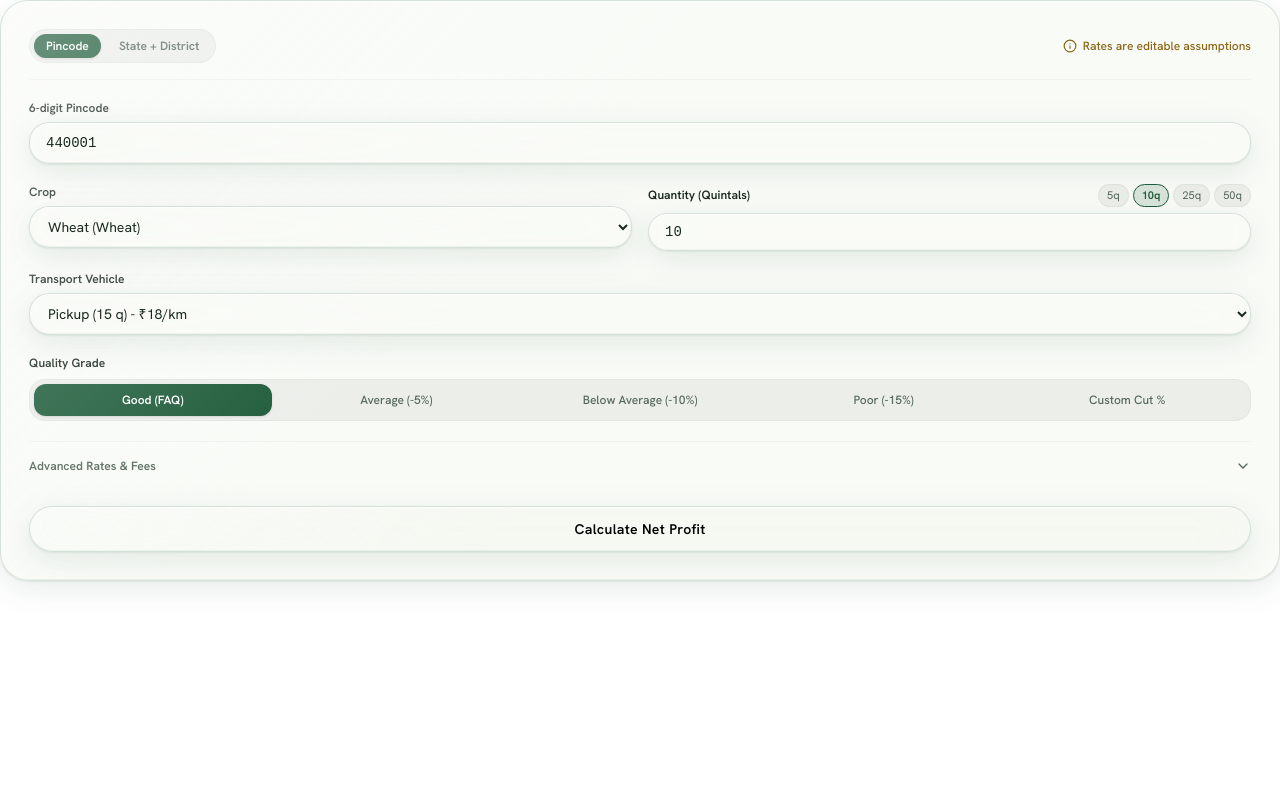
Test: SearchPanel Component › validates 6-digit pincode and rejects invalid input
Expected: the button "Calculate Net Profit" is shown, left=29, top=506, right=1251, bottom=552
Replace the text in the field labelled "6-digit Pincode" with "123" at coordinates (640, 143), box left=29, top=122, right=1251, bottom=164
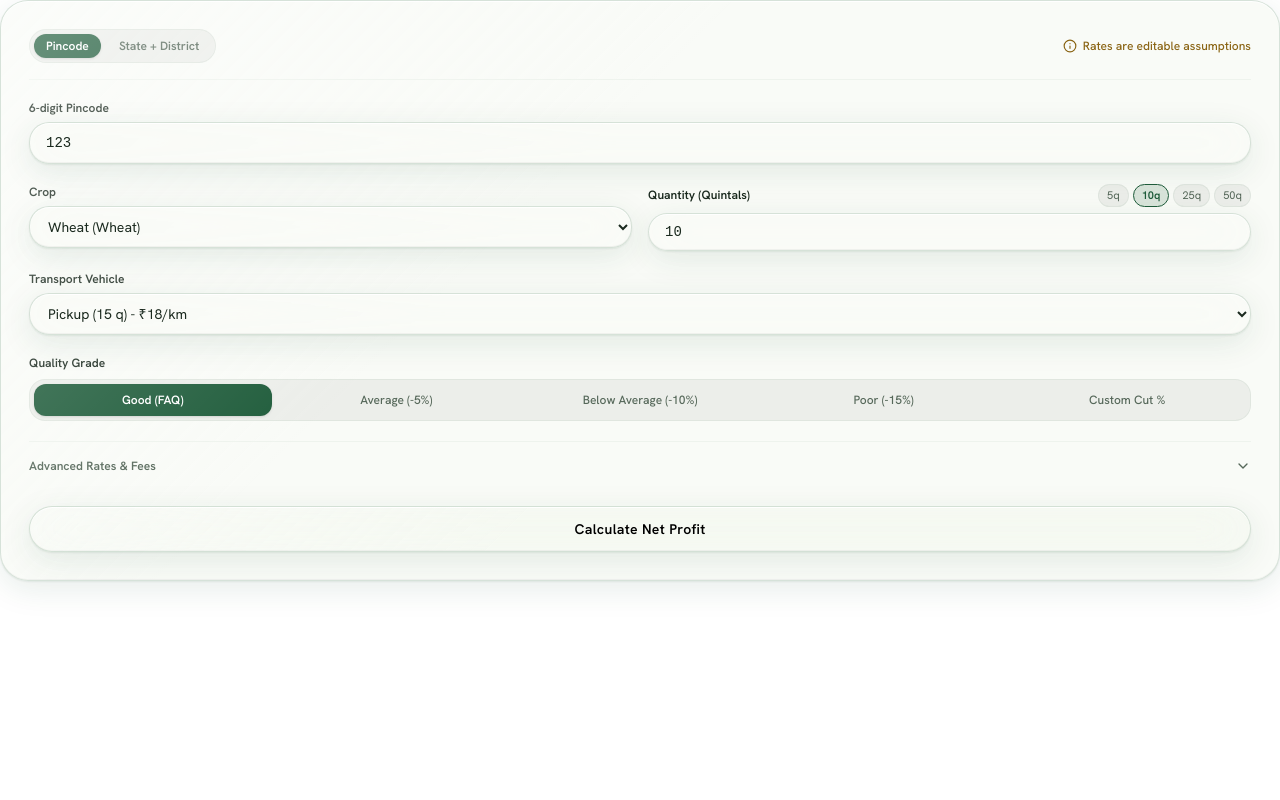
Click the button "Calculate Net Profit" at coordinates (640, 528), box left=29, top=506, right=1251, bottom=552
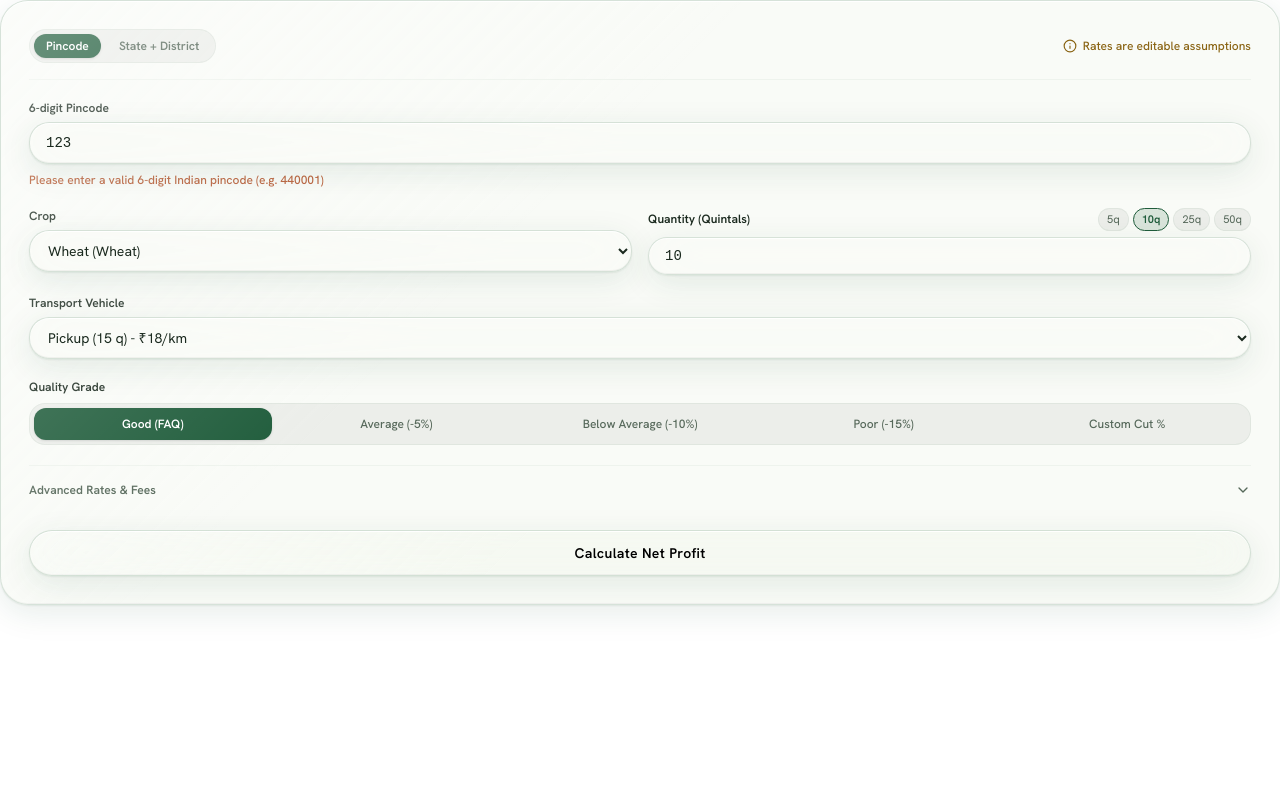
Expected: the text "Please enter a valid 6-digit Indian pincode (e.g. 440001)" is shown, left=29, top=172, right=324, bottom=188
